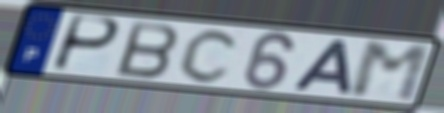6: (241, 30, 297, 92)
A: (288, 38, 354, 97)
B: (113, 19, 181, 81)
C: (176, 27, 244, 85)
M: (347, 40, 434, 105)
P: (48, 13, 124, 75)
